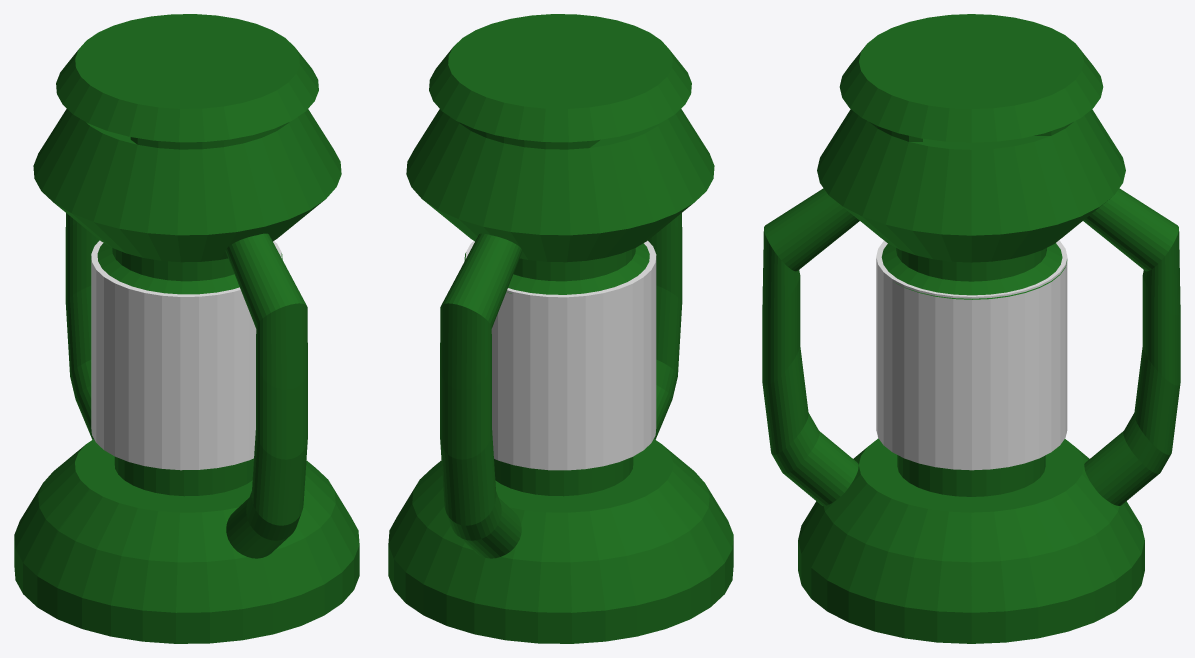
Rendered from oillampnolight.fbx.
The picture shows the model from 3 angles, left to right: view 1: azimuth 30°, elevation 25°; view 2: azimuth 150°, elevation 25°; view 3: azimuth 270°, elevation 25°; orthographic projection.
Visible parts, largest first — view 1: Cylinder, Circle, Cylinder.001; view 2: Cylinder, Circle, Cylinder.001; view 3: Cylinder, Circle, Cylinder.001.
Boxes of the visible parts, left/top/right/bottom form: Cylinder: left=14, top=213, right=359, bottom=643; Circle: left=33, top=14, right=341, bottom=294; Cylinder.001: left=91, top=240, right=281, bottom=470; Cylinder: left=388, top=213, right=733, bottom=643; Circle: left=406, top=14, right=714, bottom=294; Cylinder.001: left=465, top=240, right=656, bottom=470; Cylinder: left=762, top=188, right=1180, bottom=643; Circle: left=817, top=14, right=1125, bottom=299; Cylinder.001: left=876, top=240, right=1067, bottom=470.
Size of the model in its own units: 200 by 332 by 242.
